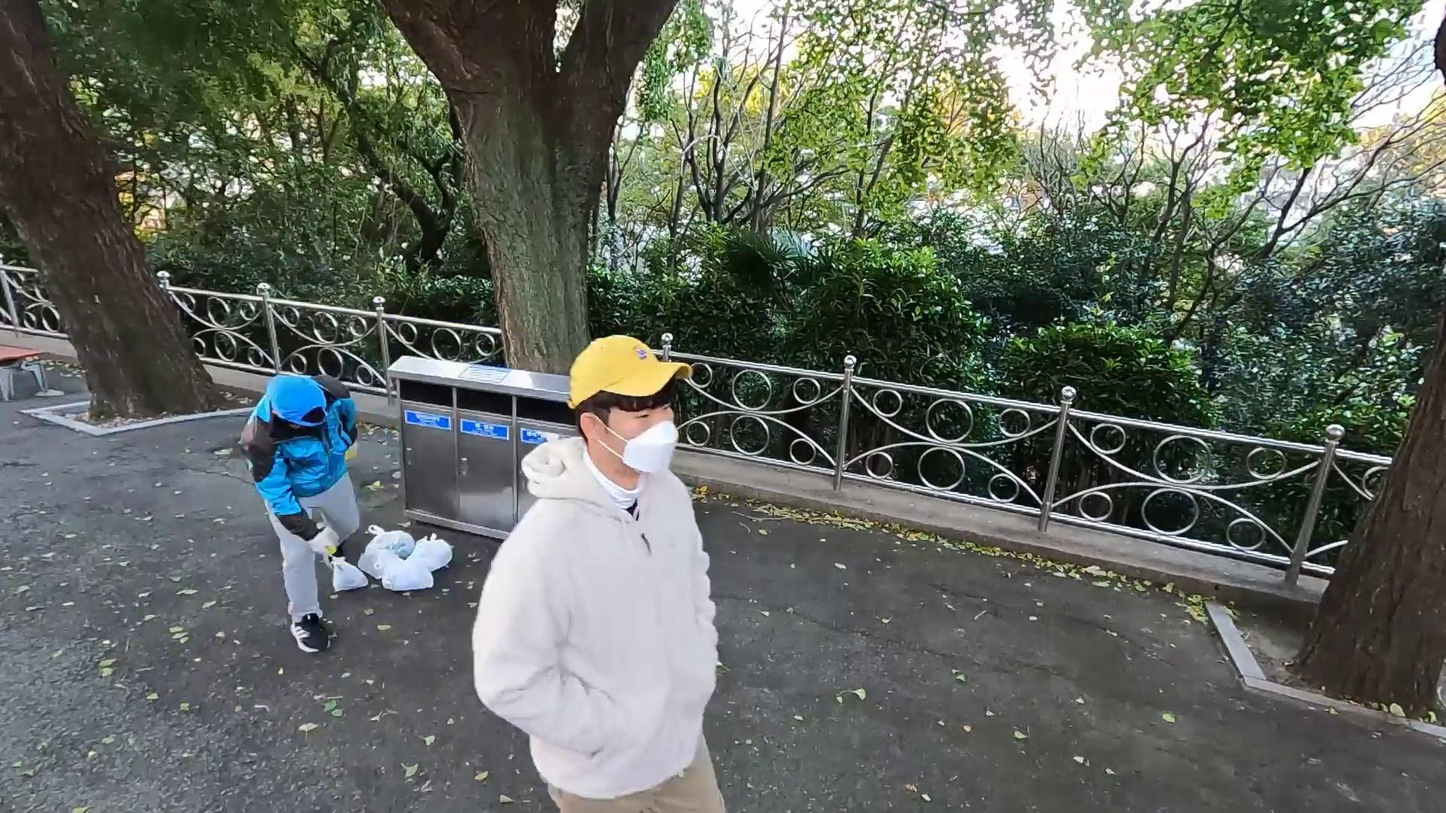person: (465, 332, 762, 813), (240, 367, 376, 657)
trash: (358, 524, 417, 579), (377, 552, 437, 593), (403, 532, 455, 577), (319, 551, 371, 595)
